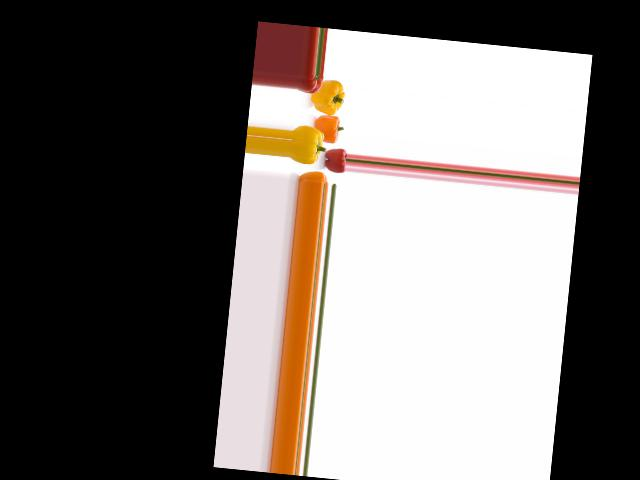bell_pepper: (298, 168, 330, 185)
